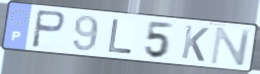5: (143, 19, 175, 60)
9: (71, 14, 99, 53)
K: (179, 23, 211, 63)
L: (106, 18, 134, 56)
N: (209, 26, 254, 67)
P: (29, 9, 67, 50)
